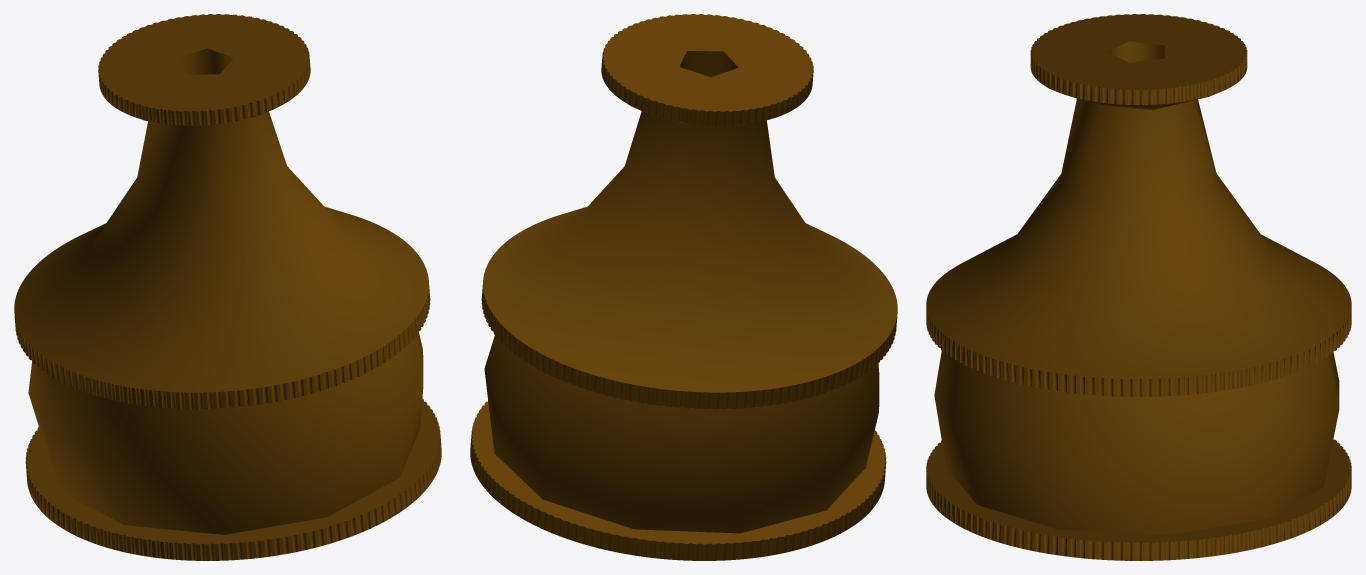
File: Poid_b Gdetente.obj
3 views of the same model, side by side, from view 1: azimuth 30°, elevation 25°; view 2: azimuth 150°, elevation 25°; view 3: azimuth 270°, elevation 25° (orthographic). The views are drawn at different scales.
Visible parts, largest first — view 1: Face_2, Face_225, Face_221, Face_226, Face_368; view 2: Face_2, Face_225, Face_221, Face_226, Face_368; view 3: Face_2, Face_225, Face_221, Face_226, Face_368.
Part boxes in pixels (bbox=[...]): Face_2: bbox=[14, 111, 428, 392]; Face_225: bbox=[28, 331, 423, 534]; Face_221: bbox=[98, 14, 309, 111]; Face_226: bbox=[25, 398, 440, 544]; Face_368: bbox=[175, 48, 233, 74]; Face_2: bbox=[483, 111, 897, 392]; Face_225: bbox=[484, 335, 879, 533]; Face_221: bbox=[602, 14, 813, 111]; Face_226: bbox=[471, 401, 886, 544]; Face_368: bbox=[679, 51, 738, 77]; Face_2: bbox=[926, 98, 1351, 378]; Face_225: bbox=[934, 351, 1339, 535]; Face_221: bbox=[1030, 14, 1247, 89]; Face_226: bbox=[926, 439, 1351, 542]; Face_368: bbox=[1107, 41, 1164, 62].
Bounding box in the file's own units: 0.0274 × 0.0306 × 0.0265.
